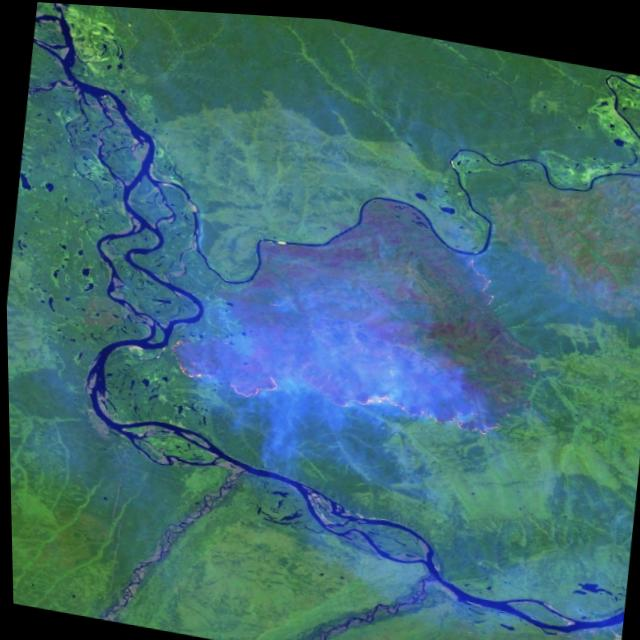fire: (154, 325, 514, 454)
